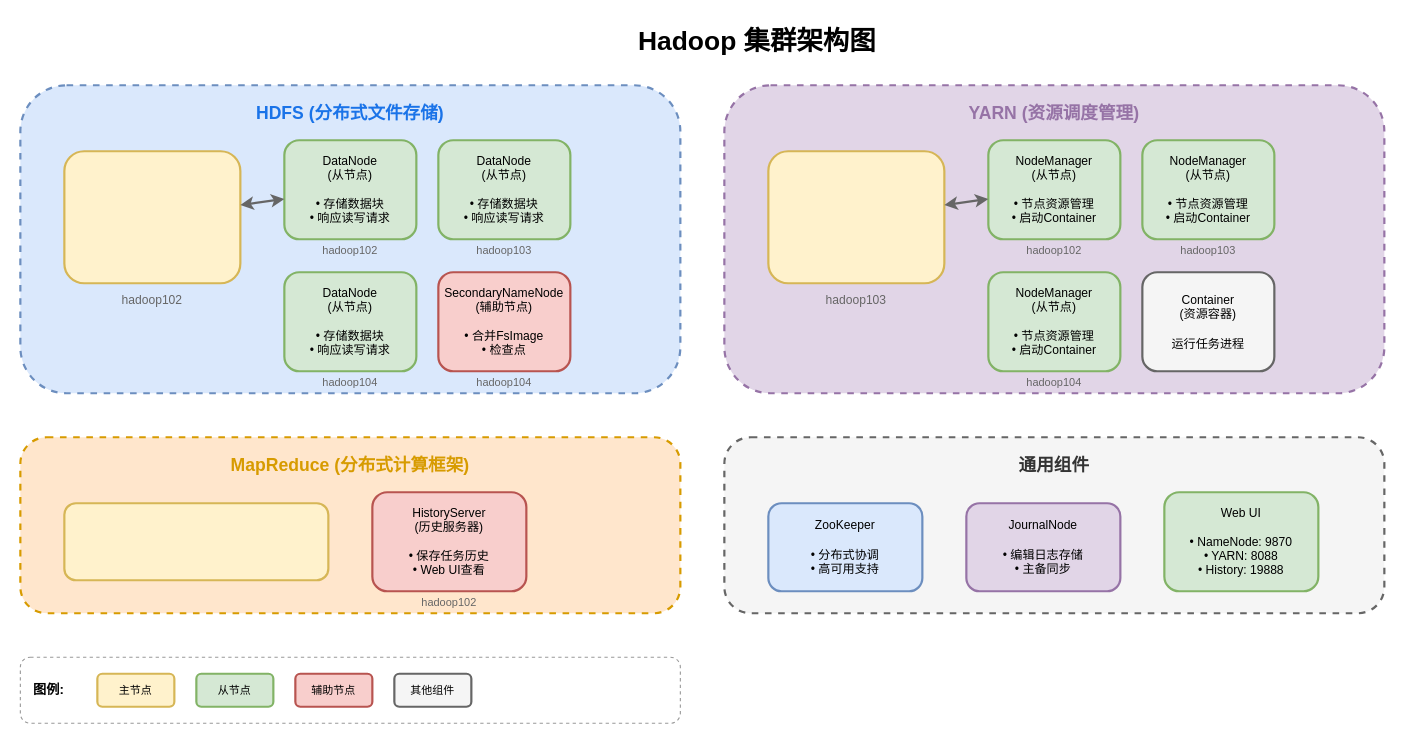
Some shapes in this 1404 by 743 pixel diagram are drawn without their labels. The box of each missing label's shape, as (x1, y1, x2, y2) in pixels:
MapReduce Job Map阶段 → Shuffle阶段 → Reduce阶段: (63, 502, 329, 581)
NameNode (主节点) • 管理元数据 • 命名空间管理 • 块映射管理: (63, 150, 241, 284)
ResourceManager (主节点) • 全局资源管理 • 任务调度 • 应用管理: (767, 150, 945, 284)
